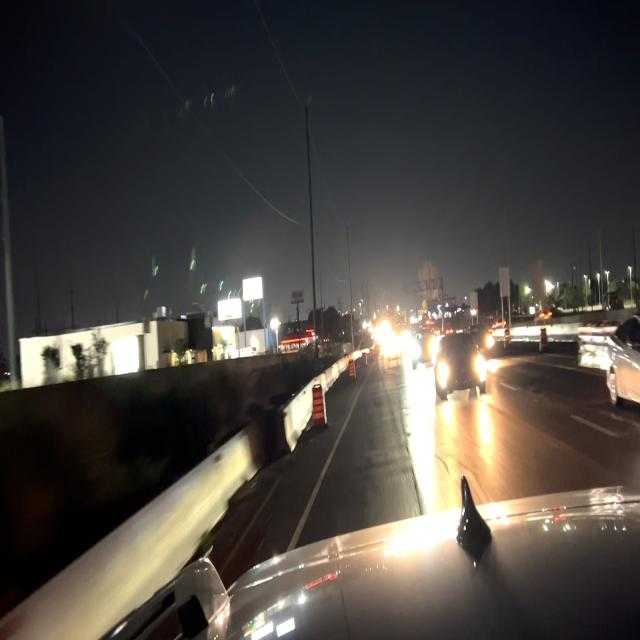back-of-sign: (415, 259, 443, 306)
